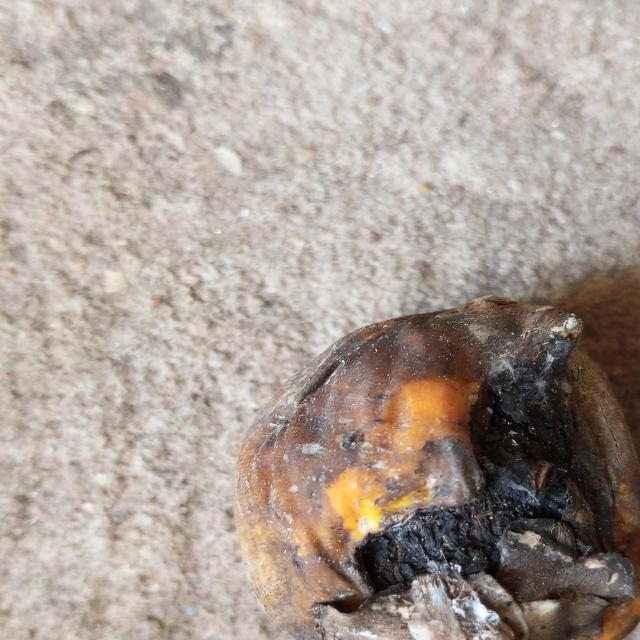damaged: (236, 296, 640, 640)
